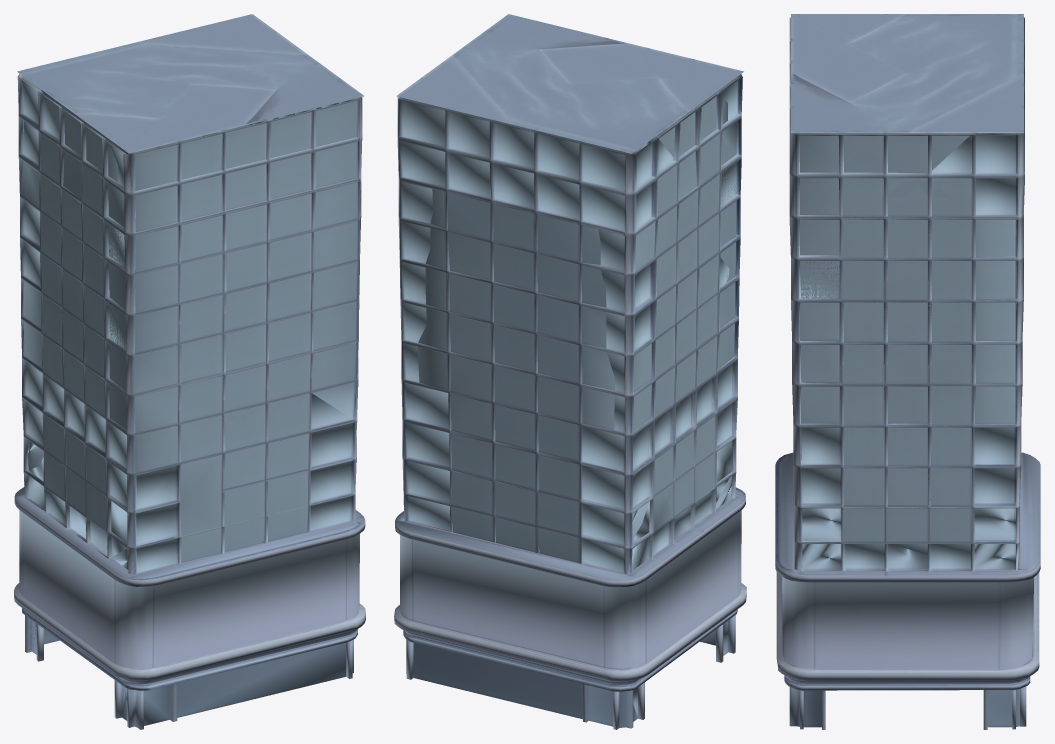
Rendered from bldg_tower.glb.
The picture shows the model from 3 angles, left to right: view 1: azimuth 30°, elevation 25°; view 2: azimuth 150°, elevation 25°; view 3: azimuth 270°, elevation 25°; orthographic projection. The views are drawn at different scales.
Parts seen in each view (by area): view 1: tripo_node_d79460ac-5fa1-4277-b38d-5754701fd40b; view 2: tripo_node_d79460ac-5fa1-4277-b38d-5754701fd40b; view 3: tripo_node_d79460ac-5fa1-4277-b38d-5754701fd40b.
Part boxes in pixels (x1,y1,x2,y2): tripo_node_d79460ac-5fa1-4277-b38d-5754701fd40b: (14, 14, 365, 729); tripo_node_d79460ac-5fa1-4277-b38d-5754701fd40b: (394, 14, 746, 729); tripo_node_d79460ac-5fa1-4277-b38d-5754701fd40b: (775, 14, 1040, 729).
Bounding box in the file's own units: 0.4512 × 0.998 × 0.4004.
1 material, 1 textured.
